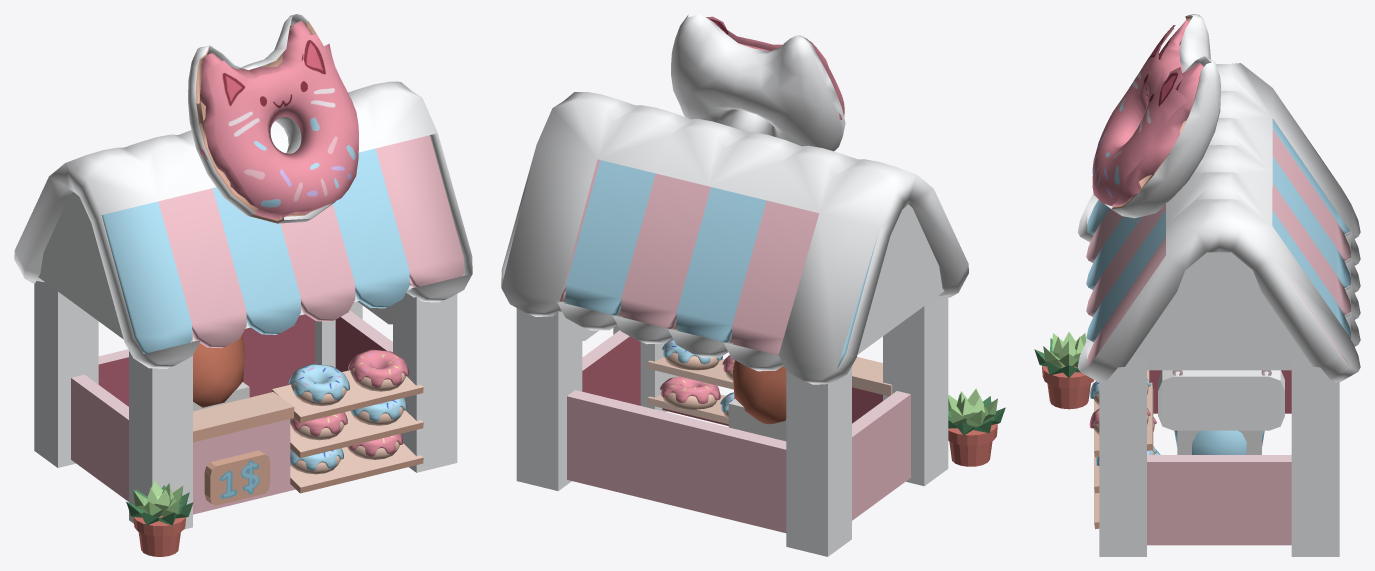
Rendered from DonutShoptest.fbx.
3 views of the same model, side by side, from view 1: azimuth 30°, elevation 25°; view 2: azimuth 150°, elevation 25°; view 3: azimuth 270°, elevation 25° (orthographic). The views are drawn at different scales.
Parts seen in each view (by area): view 1: topper.001, topper.004, Cube.016, topper.003, topper.002, PolySphere.001, Torus.010, Torus.013, Cylinder, Torus.008, Torus.011, Torus.009 (+3 smaller); view 2: topper.001, topper.004, PolySphere.001, Cube.016, Torus.012, Cylinder, Cube, topper.003, Torus.011, Cube.021, Cube.023; view 3: topper.001, topper.004, Cylinder, Cube.005, Cube.016, Cube, Cube.021, Cube.022, Cube.023.
Boxes of the visible parts, x1,y1,x2,y2 form: topper.001: (14, 14, 472, 529); topper.004: (71, 310, 392, 514); Cube.016: (272, 370, 423, 493); topper.003: (193, 392, 294, 442); topper.002: (204, 450, 270, 505); PolySphere.001: (193, 335, 244, 407); Torus.010: (348, 349, 409, 391); Torus.013: (288, 364, 349, 402); Cylinder: (133, 515, 185, 556); Torus.008: (290, 412, 347, 440); Torus.011: (350, 398, 406, 425); Torus.009: (290, 448, 343, 474); topper.001: (501, 14, 968, 556); topper.004: (567, 330, 910, 532); PolySphere.001: (732, 360, 786, 424); Cube.016: (647, 357, 733, 424); Torus.012: (660, 376, 720, 409); Cylinder: (948, 423, 997, 466); Cube: (728, 399, 786, 441); topper.003: (852, 357, 892, 396); Torus.011: (662, 339, 722, 370); Cube.021: (948, 388, 997, 426); Cube.023: (948, 394, 1005, 435); topper.001: (1077, 14, 1360, 556); topper.004: (1147, 370, 1291, 545); Cylinder: (1042, 365, 1093, 409); Cube.005: (1174, 430, 1264, 454); Cube.016: (1094, 382, 1153, 529); Cube: (1177, 430, 1261, 454); Cube.021: (1043, 333, 1086, 367); Cube.022: (1052, 332, 1083, 359); Cube.023: (1034, 338, 1080, 377).
Bounding box in the file's own units: 984 × 1198 × 770.
